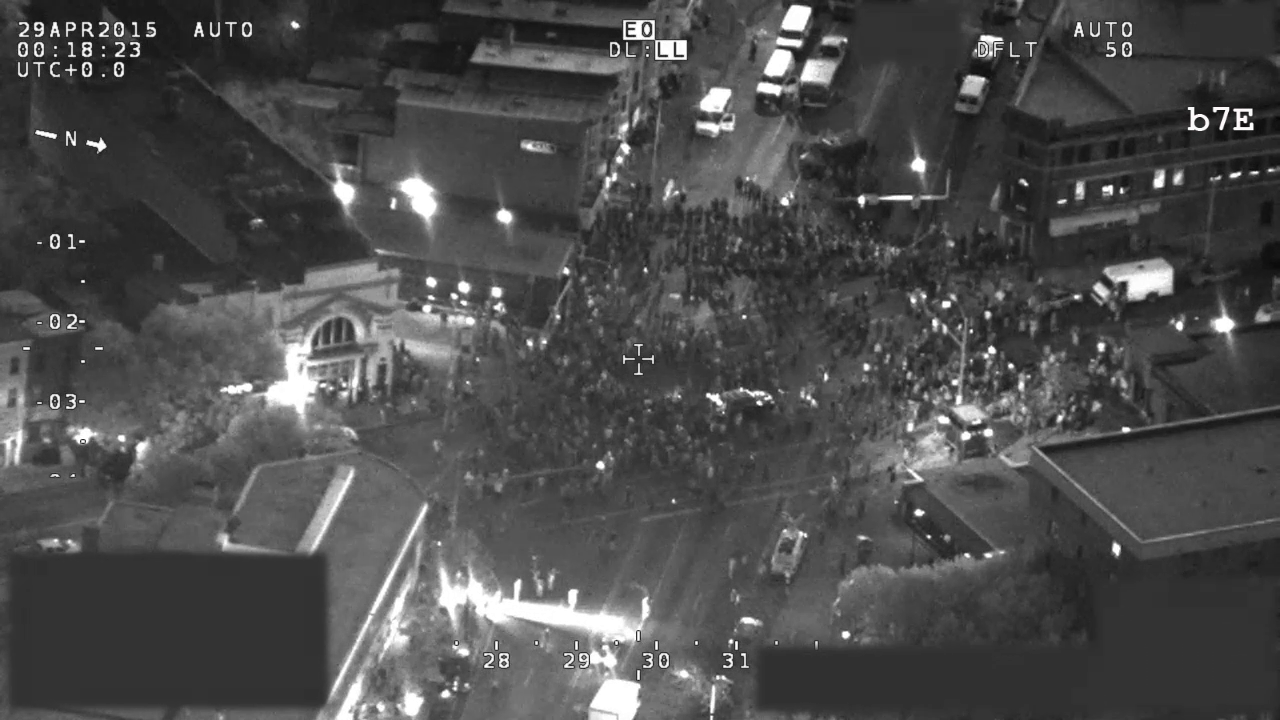vehicle: (1086, 253, 1178, 313), (795, 123, 873, 179), (799, 34, 856, 109), (753, 48, 805, 116), (704, 381, 781, 426), (688, 78, 743, 140), (760, 523, 813, 585), (11, 527, 82, 572), (585, 672, 641, 720), (721, 612, 770, 665), (768, 2, 818, 50), (949, 69, 994, 116), (1185, 253, 1243, 289), (964, 29, 1008, 69)
